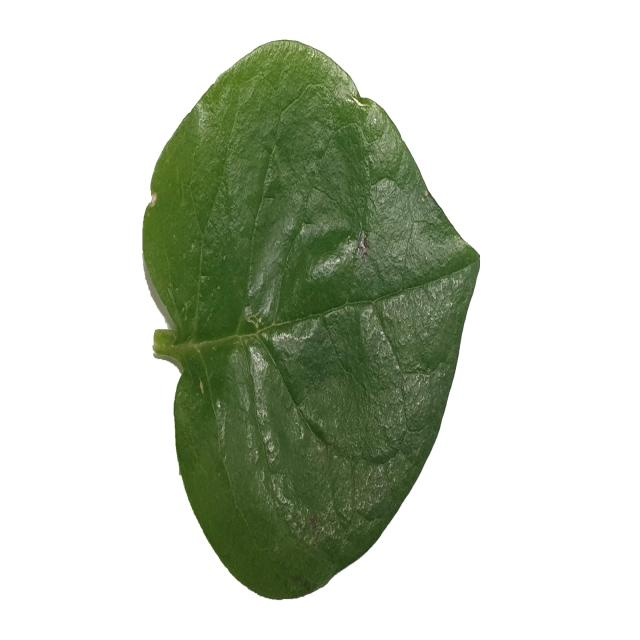Medicinal-Basale: (141, 36, 481, 601)
